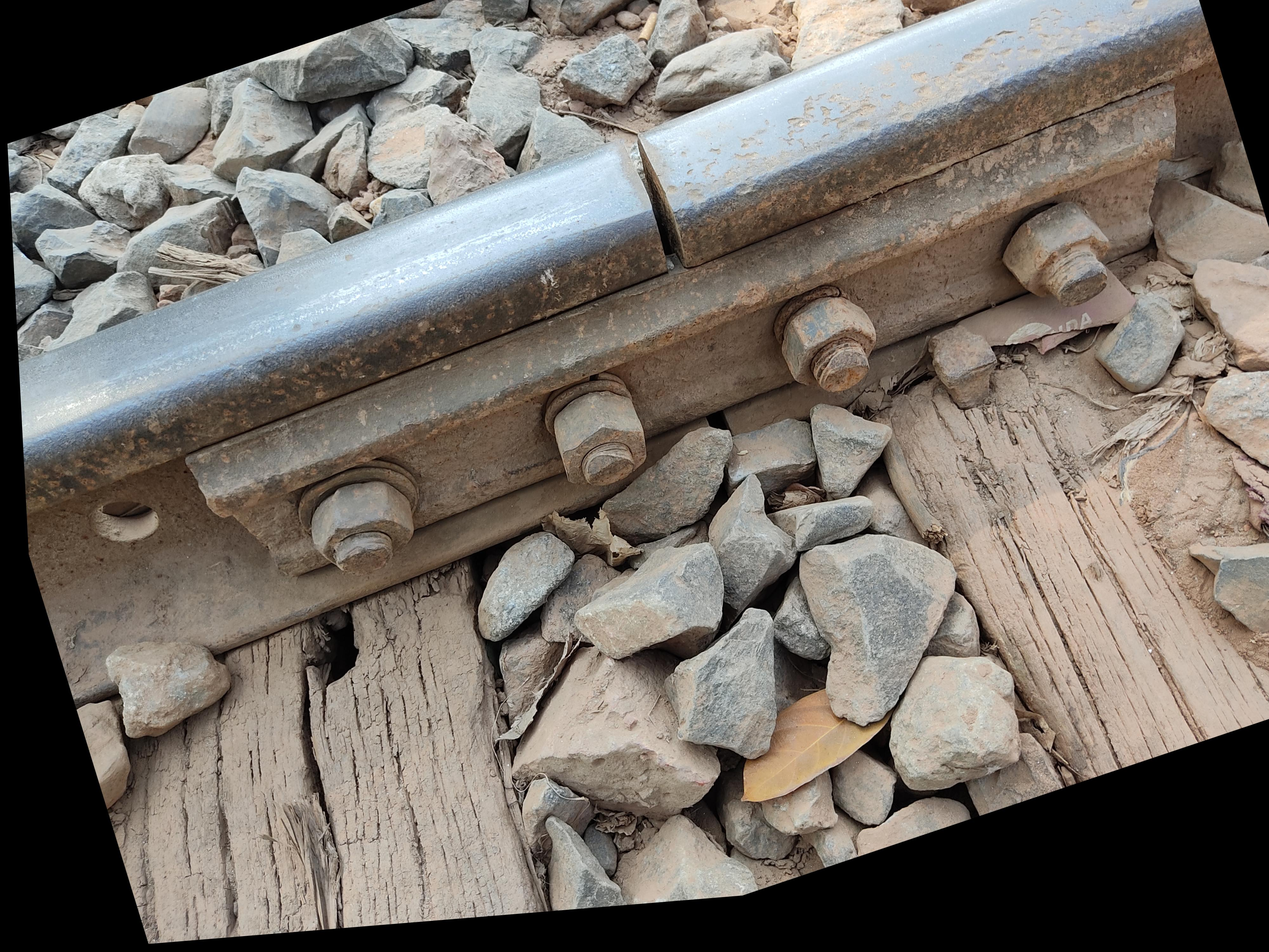person: (433, 233, 702, 519)
